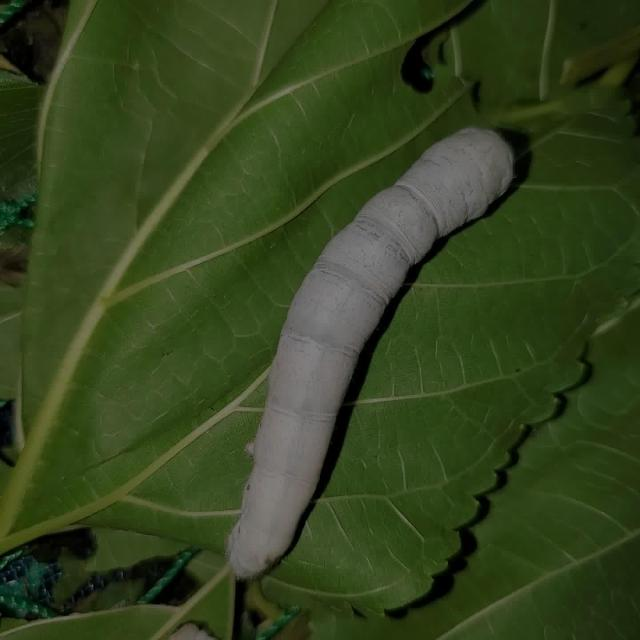Healthy: (212, 118, 524, 586)
